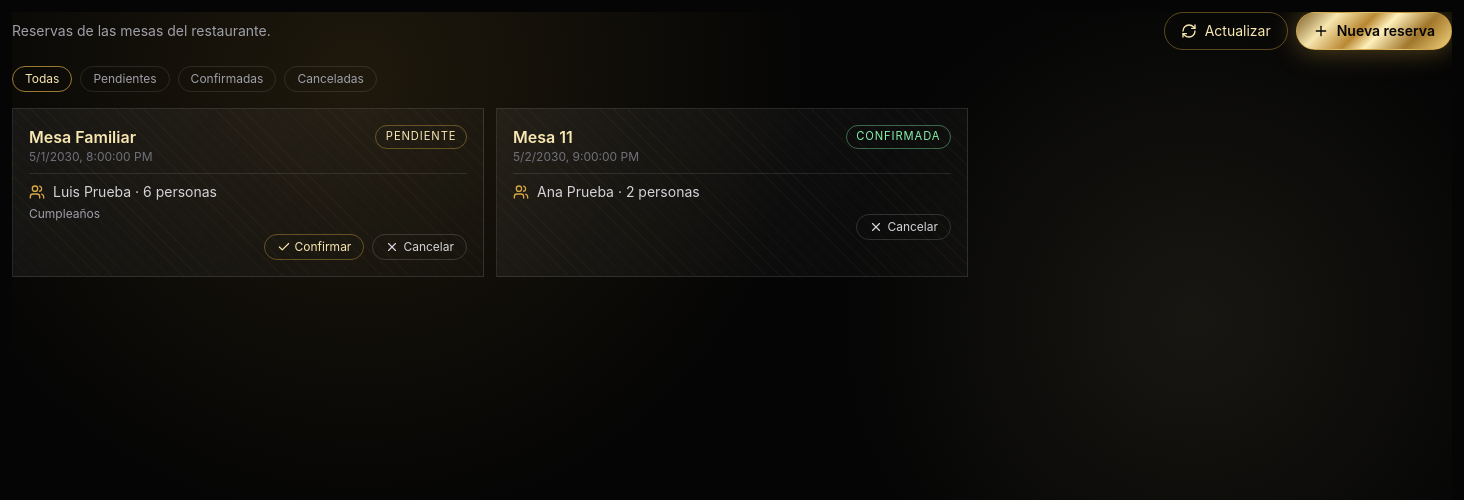
ReservationsAdmin › filtra por estado
Expected: the heading "Mesa Familiar" is shown, [29,125,152,149]
What coordinates should you click on to do the following:
click the button "Confirmadas"
I would click on:
 (227, 79)
Its box is [178,66,276,92].
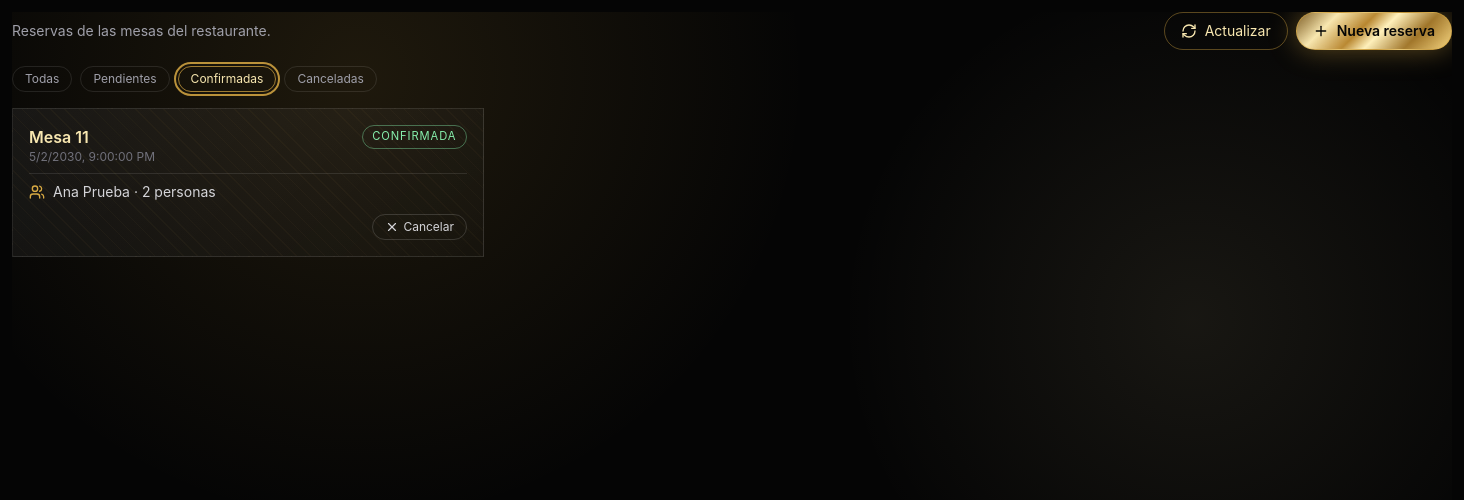
Expected: the heading "Mesa 11" is shown, [29,127,89,147]
Result: the heading "Mesa Familiar" is gone
What coordinates should you click on to do the following:
click the button "Canceladas"
I would click on:
 (331, 79)
Its box is [284,66,377,92].
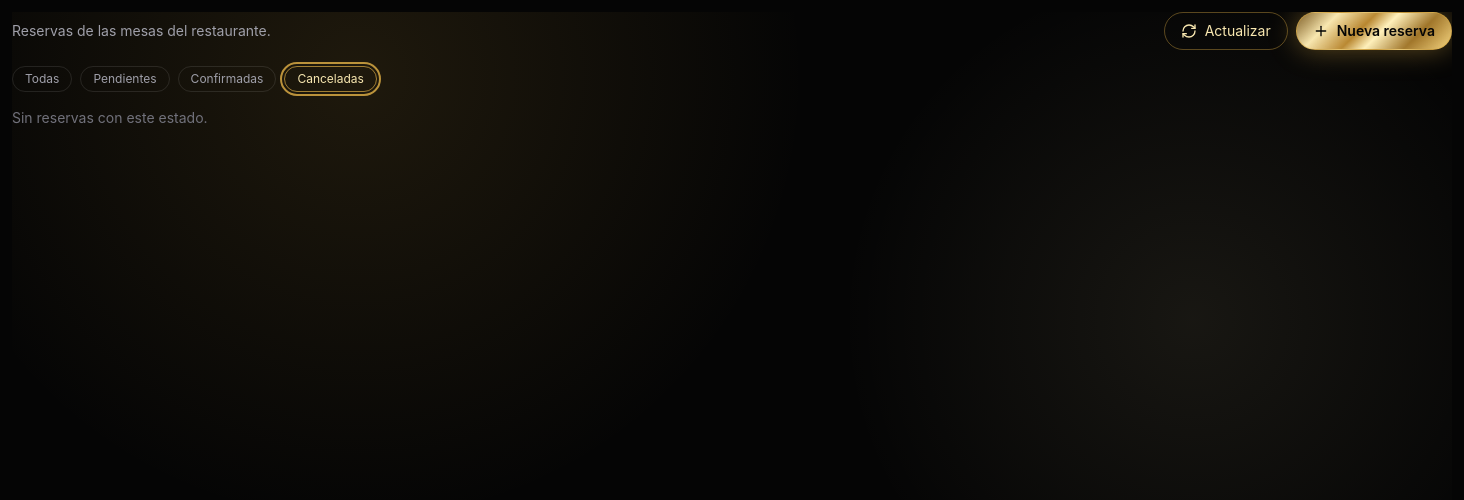
Result: the text "Sin reservas con este estado." is shown at [12,109,208,126]
